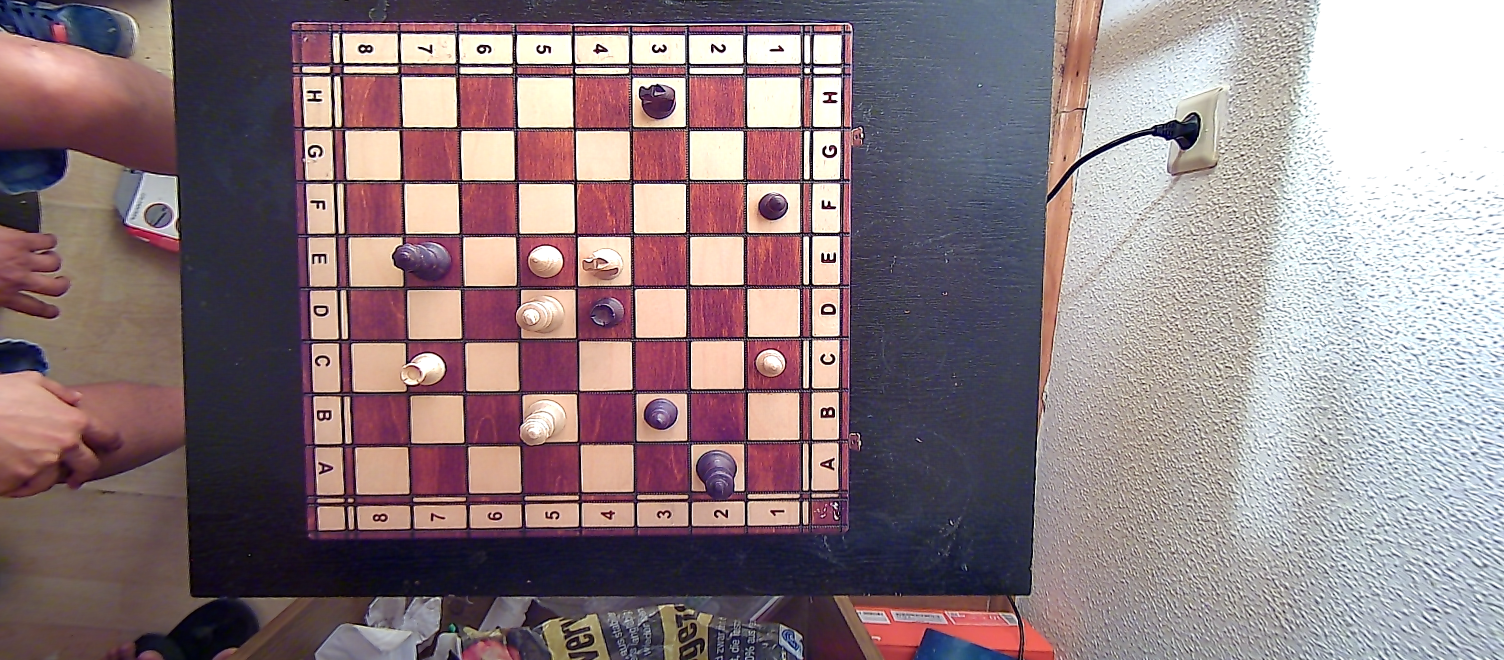black-bishop: (641, 397, 681, 434)
black-king: (695, 447, 739, 504)
black-knight: (637, 81, 679, 121)
black-pawn: (754, 190, 789, 226)
black-queen: (389, 239, 454, 284)
black-rook: (585, 293, 626, 329)
white-bishop: (524, 241, 565, 281)
white-king: (516, 293, 566, 337)
white-knight: (578, 244, 625, 284)
white-pawn: (751, 346, 787, 380)
white-queen: (517, 399, 568, 445)
white-rook: (397, 353, 446, 387)
